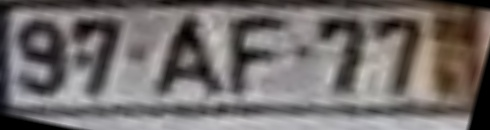7: (71, 17, 129, 106), (313, 19, 370, 104), (372, 17, 425, 106)
9: (11, 17, 71, 106)
A: (145, 15, 229, 105)
F: (225, 17, 288, 102)
